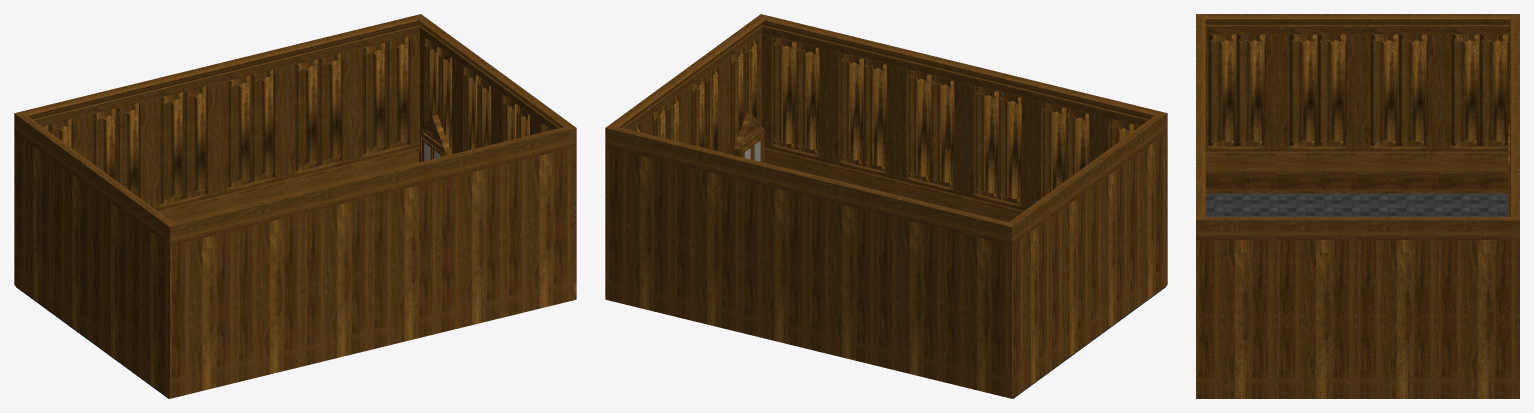
File: victim_stand.glb
The picture shows the model from 3 angles, left to right: view 1: azimuth 30°, elevation 25°; view 2: azimuth 150°, elevation 25°; view 3: azimuth 270°, elevation 25°; orthographic projection. The views are drawn at different scales.
Visible parts, largest first — view 1: Material2 (×2); view 2: Material2 (×2); view 3: Material2 (×2), Material3.
Boxes of the visible parts, left/top/right/bottom form: Material2 (×2): left=14, top=14, right=576, bottom=398; Material2 (×2): left=605, top=14, right=1167, bottom=398; Material2 (×2): left=1196, top=14, right=1519, bottom=398; Material3: left=1206, top=193, right=1507, bottom=216.
Size of the model in its own units: 596 by 242 by 395.
7 materials, 5 textured.
